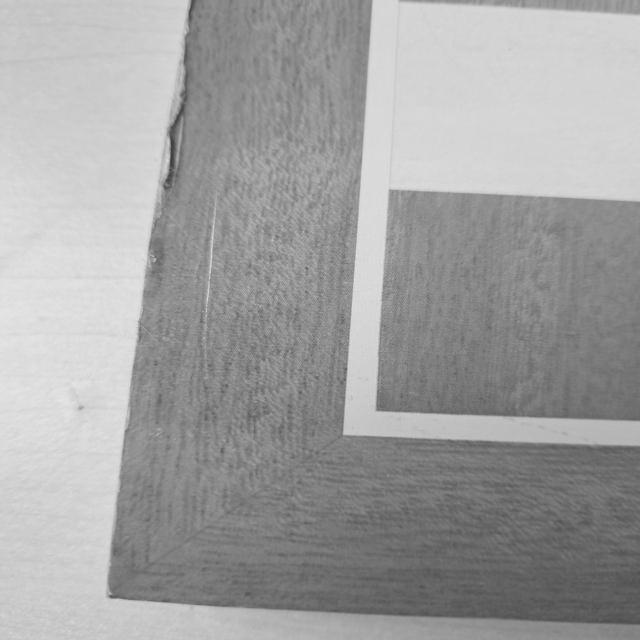chess-table-corners: (292, 344, 468, 470)
